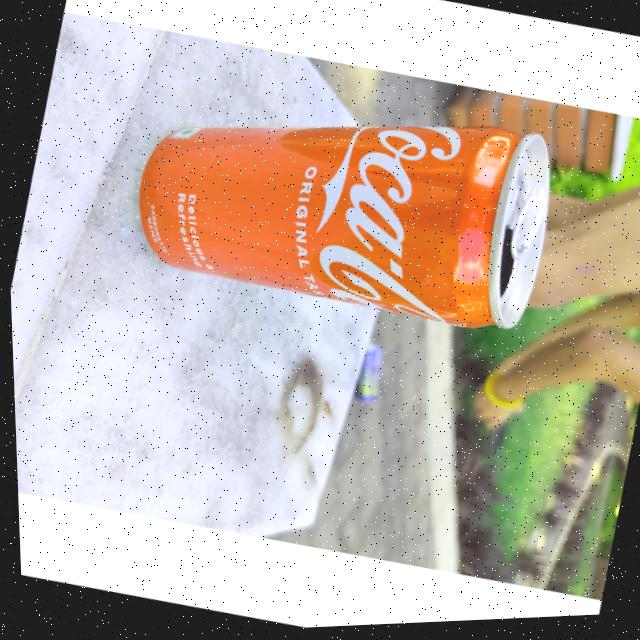Coca Cola: (105, 40, 575, 379)
